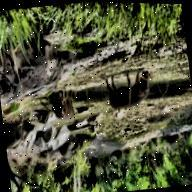boar: (90, 64, 155, 117), (44, 81, 83, 143)
